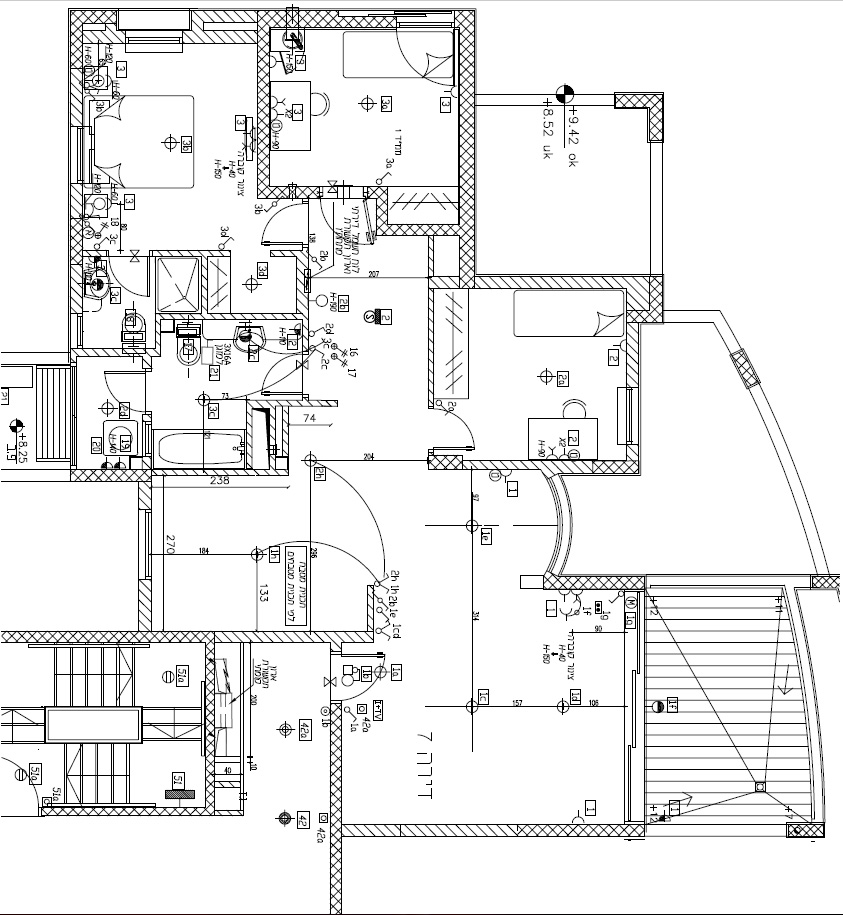door: (254, 200, 297, 249), (272, 355, 315, 404), (437, 404, 480, 453), (99, 367, 142, 416)
wall: (459, 11, 475, 287), (476, 276, 650, 290), (258, 10, 270, 199)
window: (625, 592, 645, 824), (125, 30, 184, 52), (617, 388, 639, 445), (140, 509, 150, 580), (71, 313, 84, 348)
